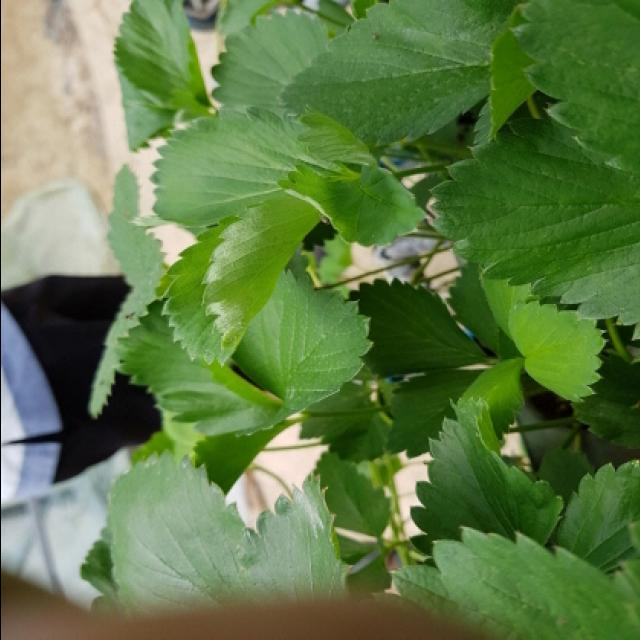Powdery Mildew Leaf: (153, 194, 324, 367)
